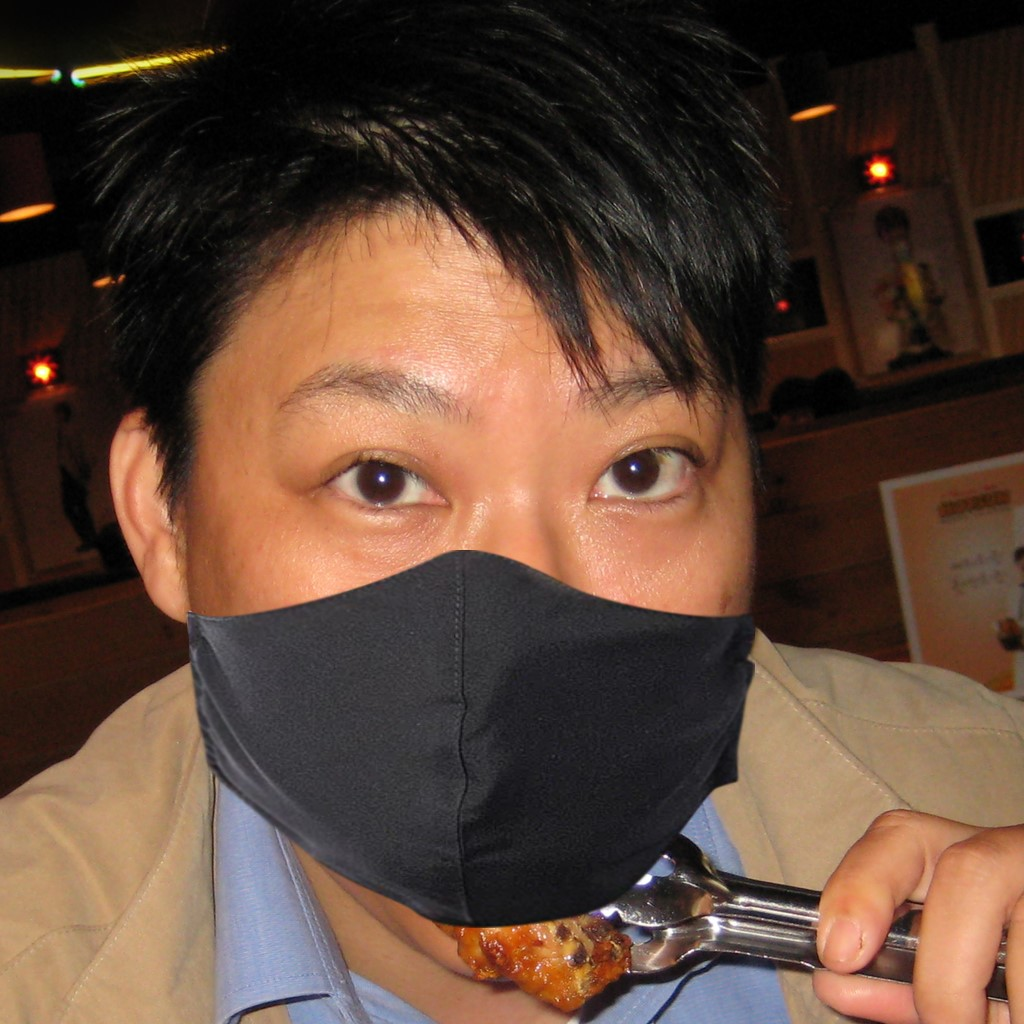con_mascara: (161, 178, 746, 903)
